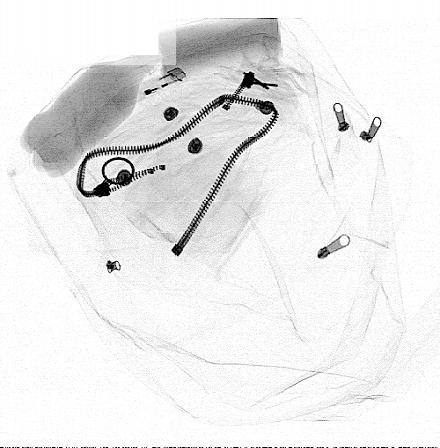Lighter: (111, 65, 190, 112)
